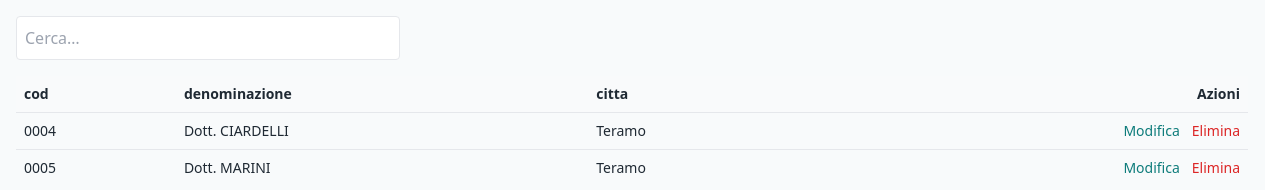
it: ListaAnagrafica › filters rows by the search box
Expected: the text "Dott. CIARDELLI" is shown, top-left (176, 112), bottom-right (588, 150)
Type "MARINI" into the field with placeholder "Cerca…" at (208, 38), box top-left (16, 16), bottom-right (400, 60)
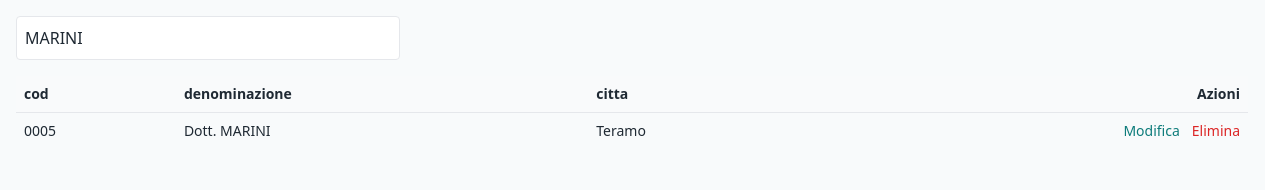
Expected: the text "Dott. MARINI" is shown, top-left (176, 112), bottom-right (588, 149)
Now the text "Dott. CIARDELLI" is gone
